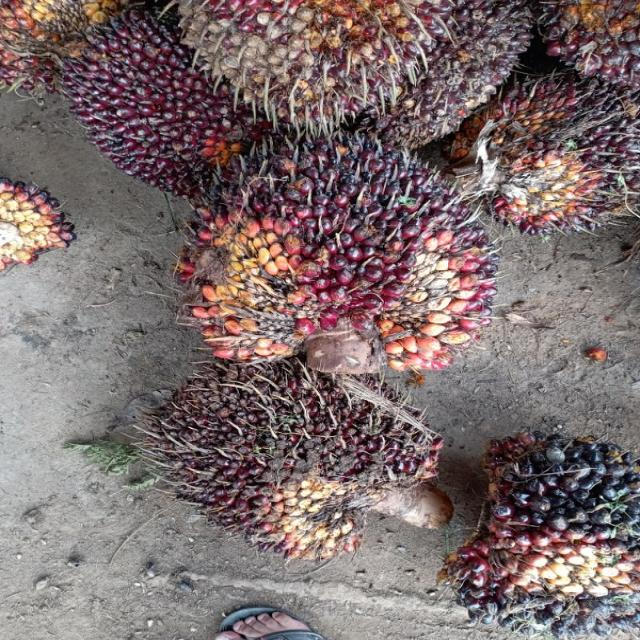fraksi 00: (469, 436, 640, 635), (468, 85, 637, 230)
fraksi 1: (155, 134, 503, 378), (131, 368, 448, 566), (160, 0, 465, 139)
